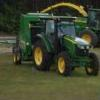Tractor: (14, 3, 100, 79)
